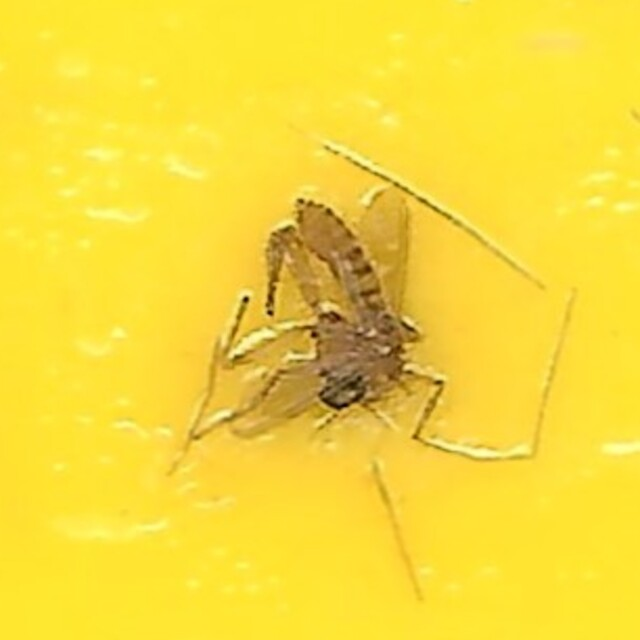Nematocera: (209, 189, 431, 451)
